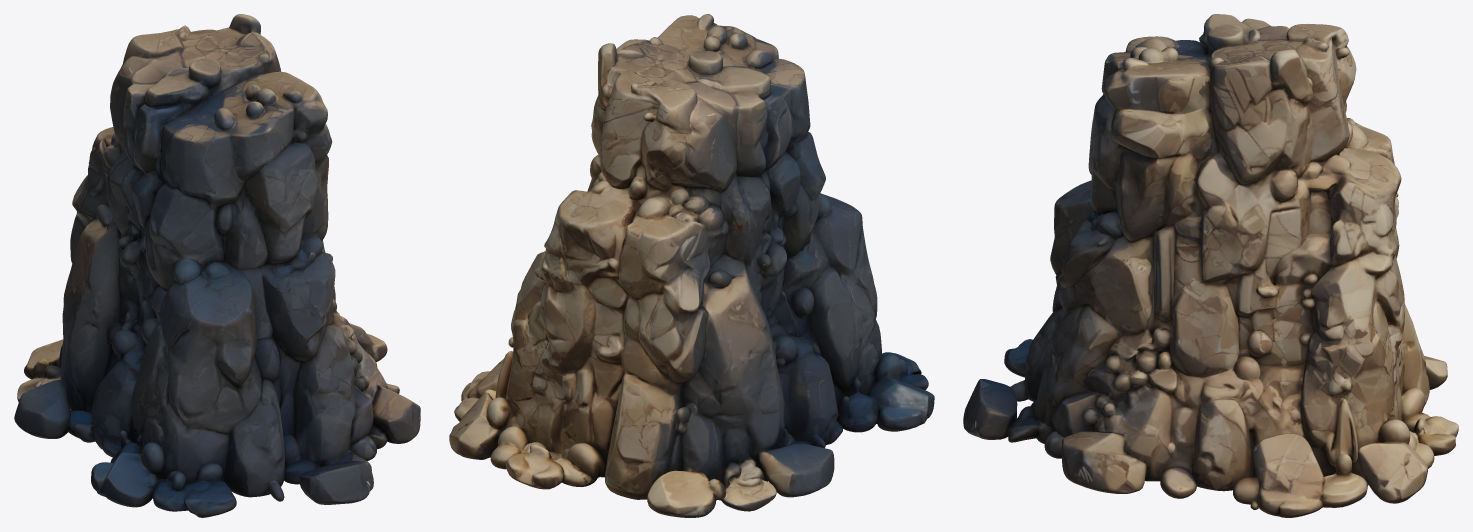
The model's file is nature-cliff.glb.
3 views of the same model, side by side, from view 1: azimuth 30°, elevation 25°; view 2: azimuth 150°, elevation 25°; view 3: azimuth 270°, elevation 25° (orthographic). The views are drawn at different scales.
Visible parts, largest first — view 1: tripo_node_f185afff-a4c4-42f1-a74c-0db346344639; view 2: tripo_node_f185afff-a4c4-42f1-a74c-0db346344639; view 3: tripo_node_f185afff-a4c4-42f1-a74c-0db346344639.
Part boxes in pixels (left/top/right/bottom): tripo_node_f185afff-a4c4-42f1-a74c-0db346344639: left=14, top=14, right=420, bottom=517; tripo_node_f185afff-a4c4-42f1-a74c-0db346344639: left=449, top=14, right=934, bottom=517; tripo_node_f185afff-a4c4-42f1-a74c-0db346344639: left=963, top=14, right=1458, bottom=517.
Bounding box in the file's own units: 15.17 × 15 × 16.71.
Materials: 1 (1 with a texture image).
